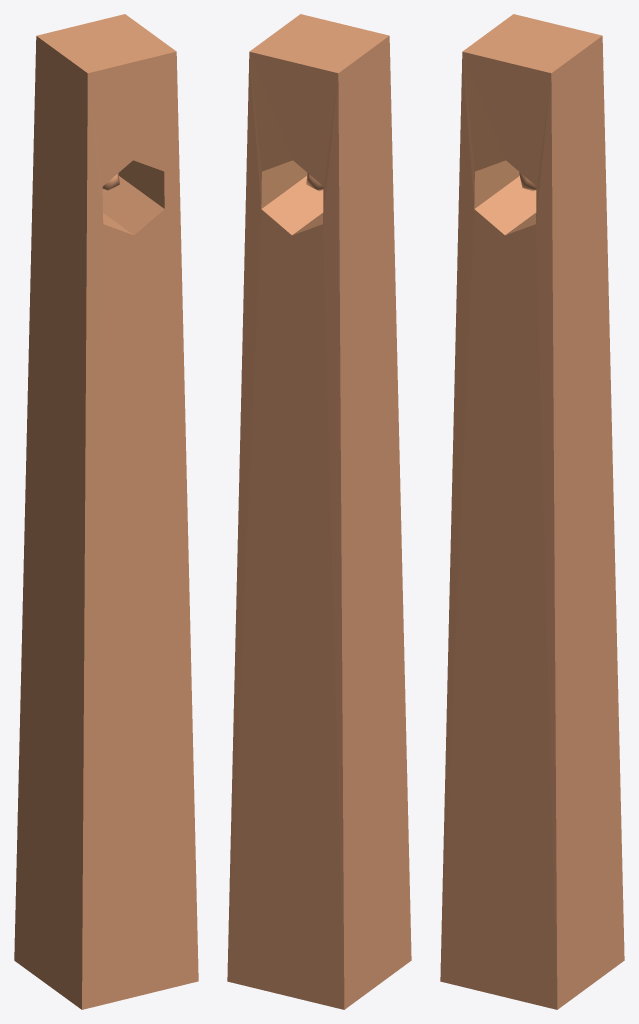
The model's file is PedestalPillar_A.fbx.
The picture shows the model from 3 angles, left to right: view 1: azimuth 30°, elevation 25°; view 2: azimuth 150°, elevation 25°; view 3: azimuth 330°, elevation 25°; orthographic projection.
Visible parts, largest first — view 1: Cube.011; view 2: Cube.011; view 3: Cube.011.
Boxes of the visible parts, x1,y1,x2,y2 form: Cube.011: (14, 14, 198, 1009); Cube.011: (227, 14, 411, 1009); Cube.011: (440, 14, 624, 1009).
Bounding box in the file's own units: 200 × 1517 × 200.
